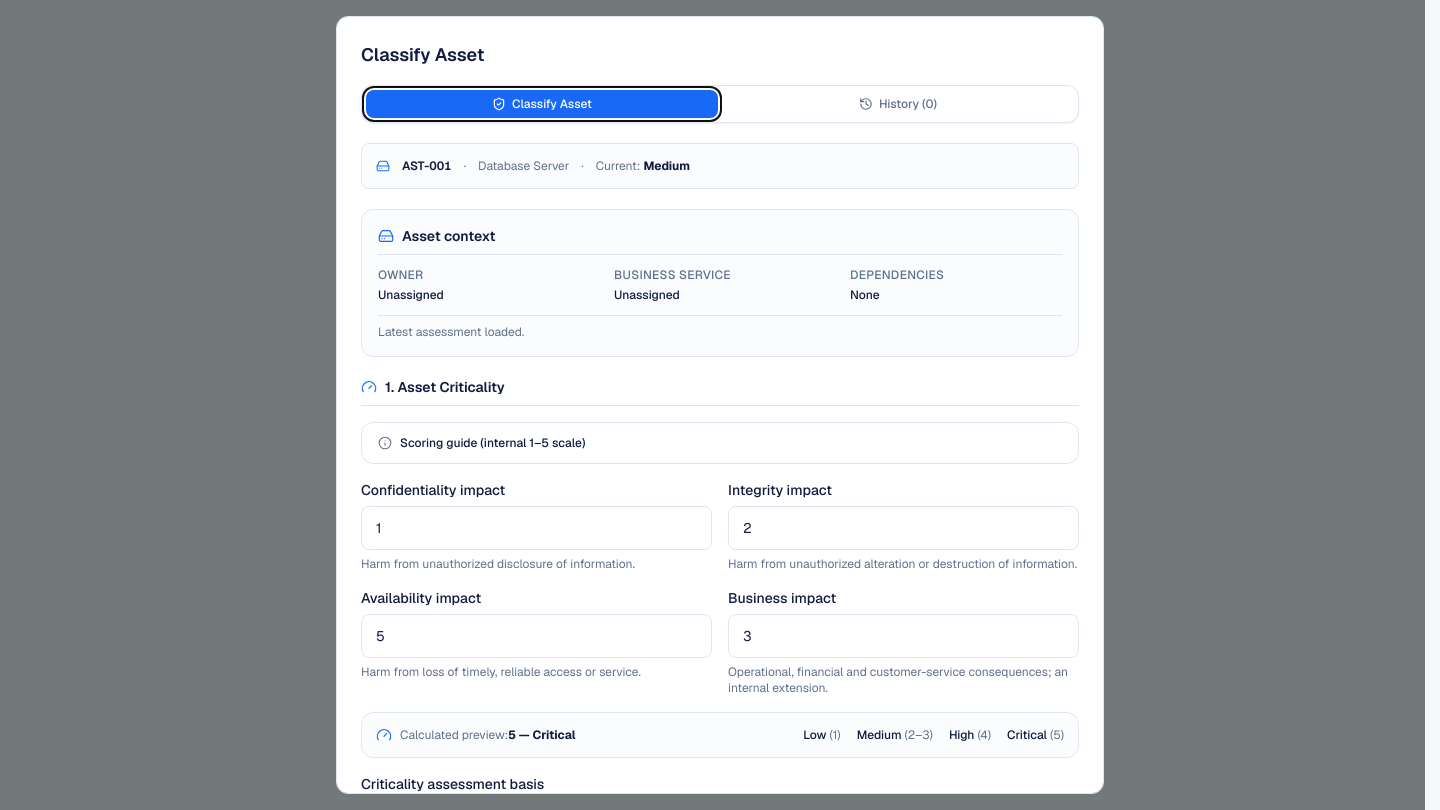
Test case: ClassifyAssetCriticalityDialog › loads saved scores and basis without overwriting subsequent edits
Replace the text in the number field labelled "Availability impact" with "3": (536, 636) [361,614,712,658]
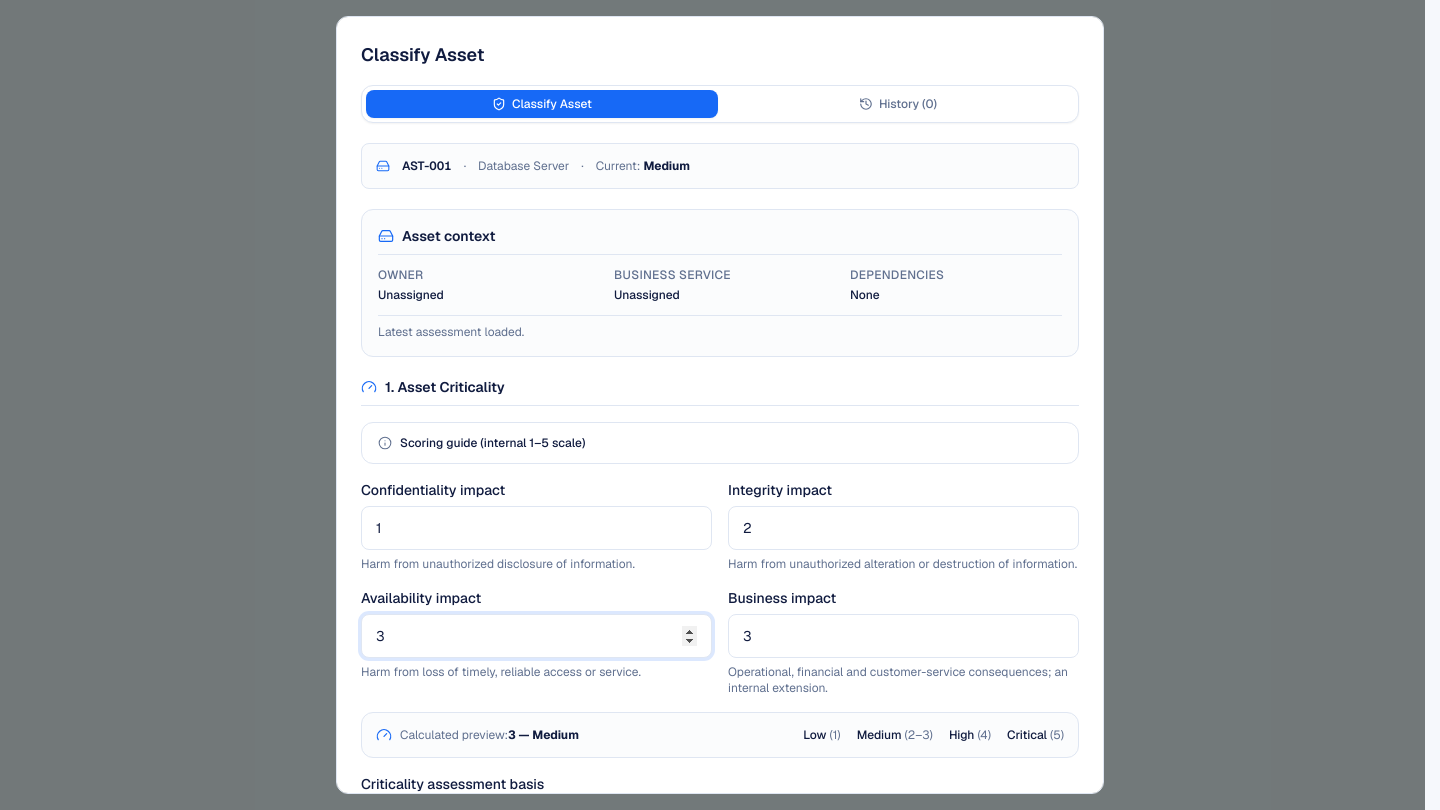
Expected: the text "Calculated preview:3 — Medium" is shown, [400,727,579,743]
